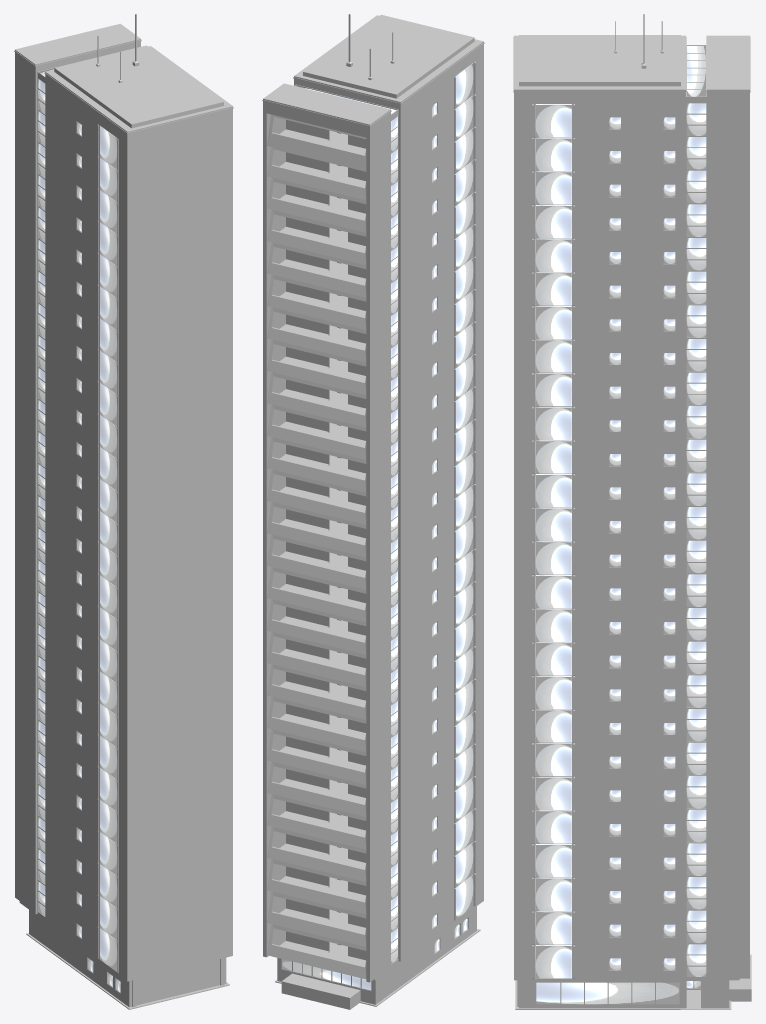
3 renders of one model, left to right at view 1: azimuth 30°, elevation 25°; view 2: azimuth 150°, elevation 25°; view 3: azimuth 270°, elevation 25°, orthographic. The views are drawn at different scales.
Parts seen in each view (by area): view 1: Residential Buildings 010; view 2: Residential Buildings 010; view 3: Residential Buildings 010.
Part boxes in pixels (left/top/right/bottom): Residential Buildings 010: left=14, top=14, right=233, bottom=1009; Residential Buildings 010: left=262, top=14, right=484, bottom=1009; Residential Buildings 010: left=513, top=14, right=751, bottom=1009.
Bounding box in the file's own units: 12.59 × 105 × 23.1.
Materials: 2 (1 with a texture image).
